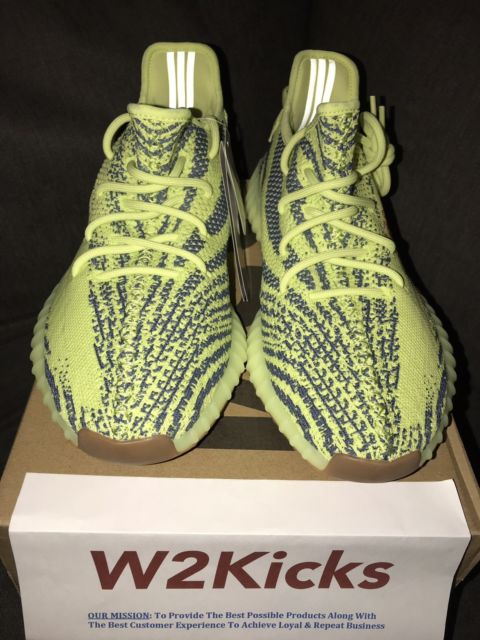Yeezy Semi-Frozen: (26, 26, 253, 475), (242, 40, 463, 500)
